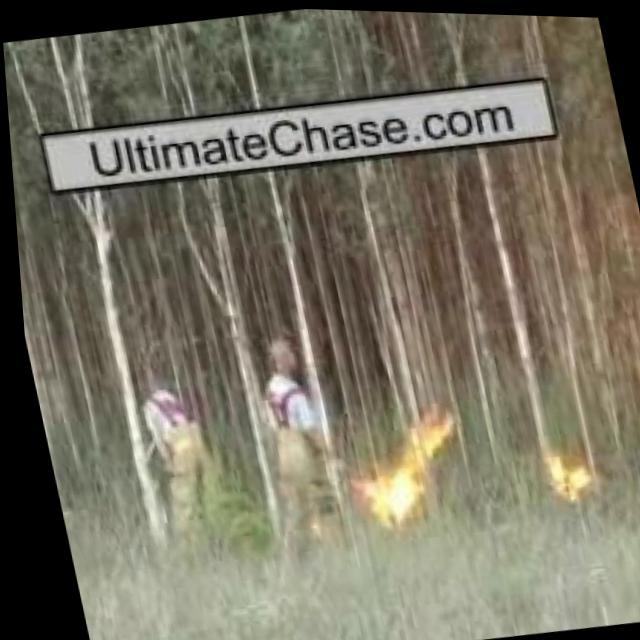Fire: (335, 415, 475, 530), (343, 460, 433, 525), (536, 448, 586, 496)
